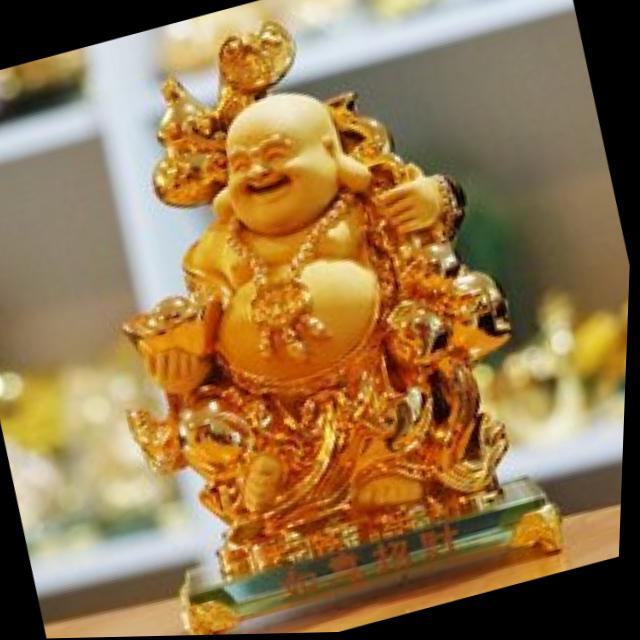Smiling Buddha: (96, 56, 491, 521)
